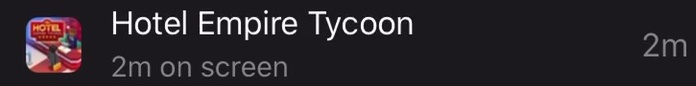name: (103, 1, 425, 42)
time: (105, 51, 159, 85)
